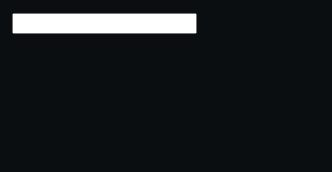
AssetSearch stale-response and debounce guards › never renders results for a query that is no longer in the box
In the search field: (104, 24) [12,13,197,34], type "b"
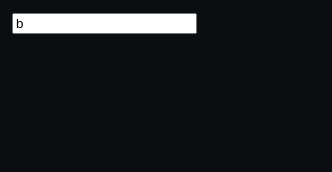
Replace the text in the search field with "br": (104, 24) [12,13,197,34]
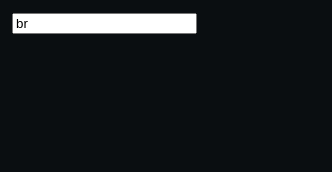
Replace the text in the search field with "bro": (104, 24) [12,13,197,34]
Wait 250 ms
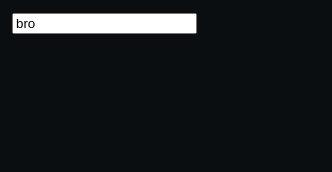
// ...then finish typing while it is still pending...
Replace the text in the search field with "brow": (104, 24) [12,13,197,34]
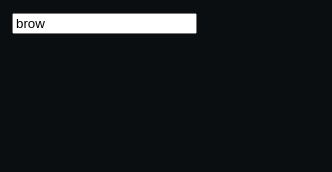
Replace the text in the search field with "brown": (104, 24) [12,13,197,34]
Wait 1250 ms
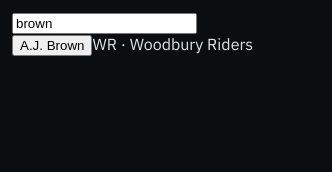
Check: the button "A.J. Brown" is shown, box [12,35,92,56]
